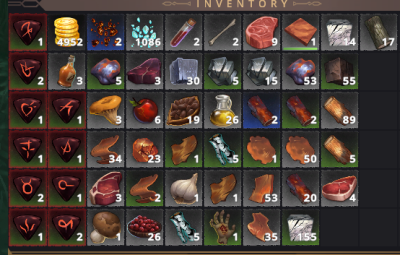ash log: (360, 14, 395, 49)
birch log: (166, 210, 201, 244), (206, 132, 240, 166)
blood: (166, 15, 202, 50)
bone: (204, 14, 241, 49)
chaos ember: (87, 14, 123, 50)
copper ore: (126, 133, 163, 166)
durable hide: (166, 131, 201, 166), (206, 170, 239, 205)
ethereal dust: (126, 13, 163, 49)
flexible hide: (126, 170, 163, 206), (88, 132, 123, 166)
gold: (48, 14, 86, 50)
granite stone: (165, 53, 201, 89)
iron ore: (87, 53, 123, 89), (284, 55, 318, 88)
marble stone: (321, 14, 358, 50), (282, 209, 318, 245)
oak log: (322, 93, 357, 128), (322, 132, 357, 167)
silver ore: (204, 53, 240, 89), (244, 54, 279, 88)
slate stone: (324, 54, 355, 87)
soft hide: (244, 131, 279, 166), (283, 131, 318, 166)
strong hide: (245, 171, 279, 205)
tough hide: (244, 210, 279, 244)
yew log: (283, 93, 318, 127), (283, 171, 318, 205), (244, 93, 278, 126)
